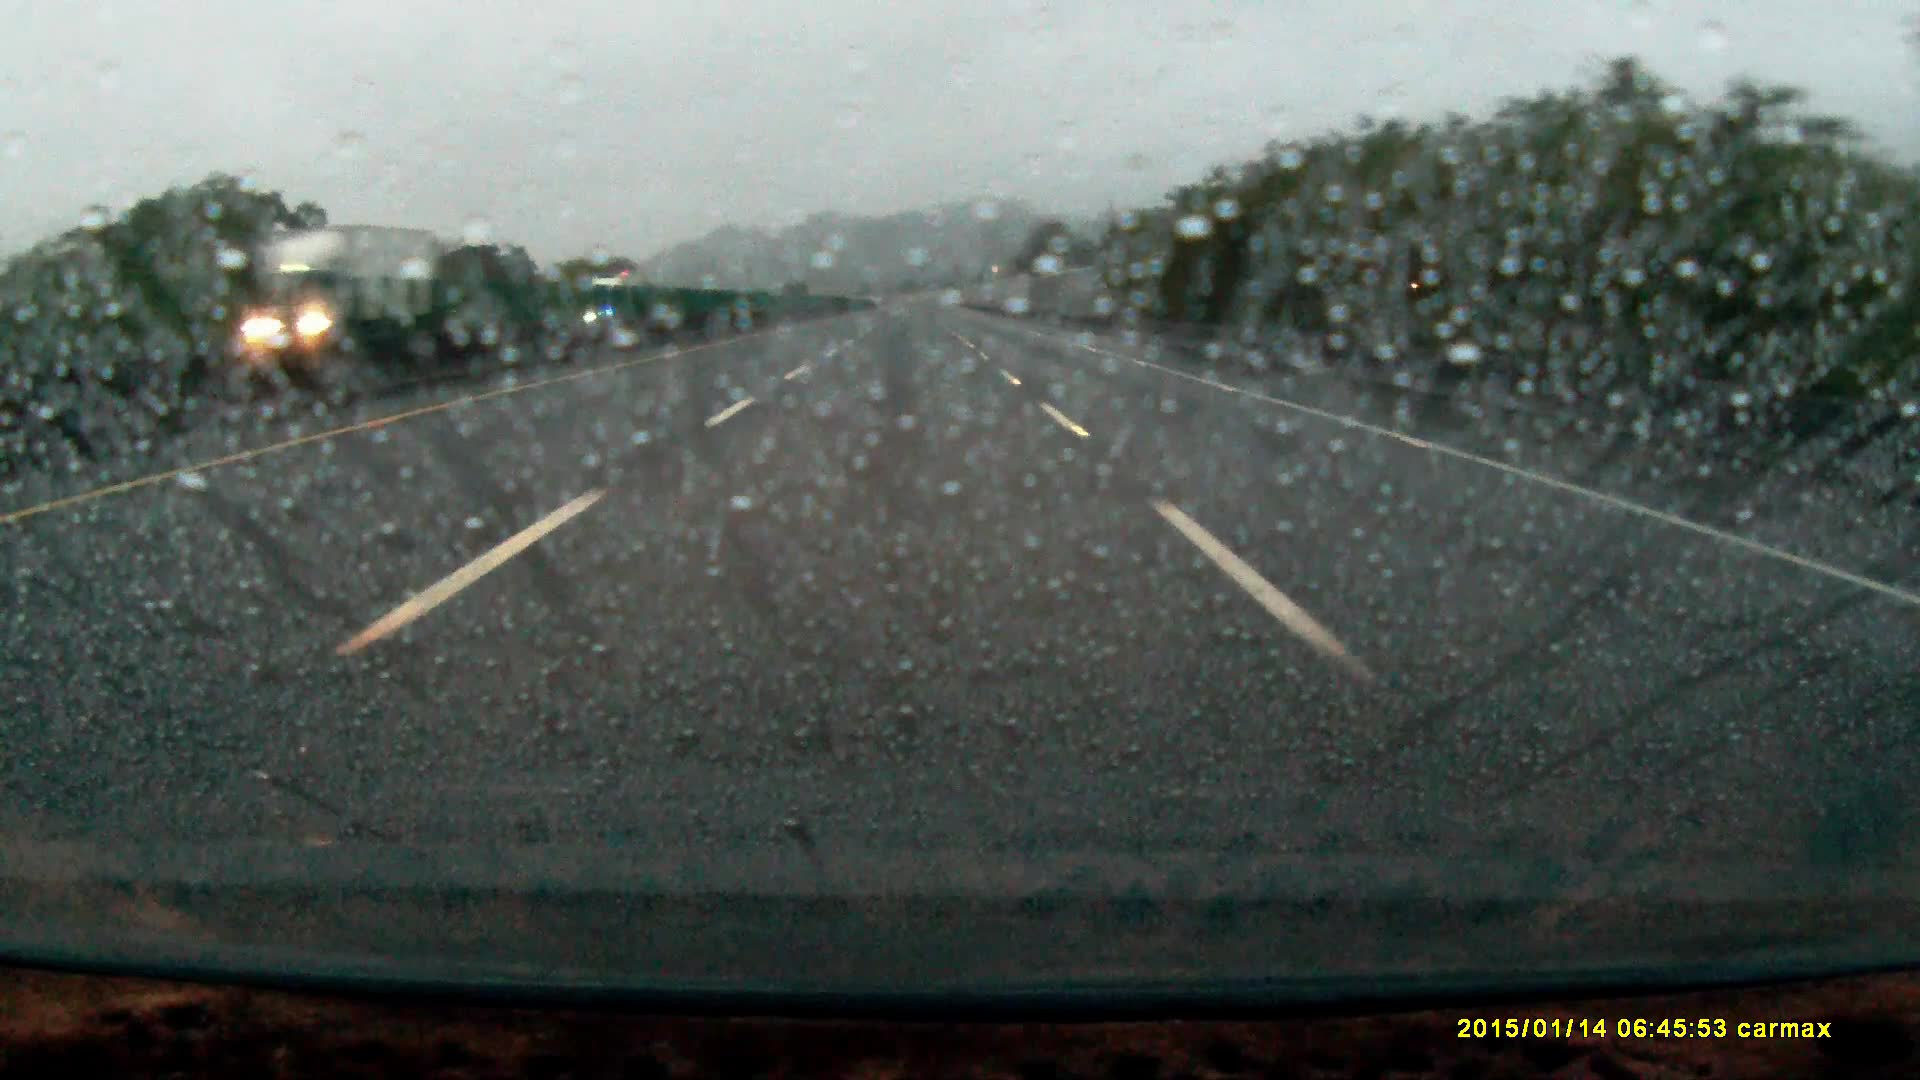vehicle: (228, 220, 455, 378), (585, 272, 650, 320)
